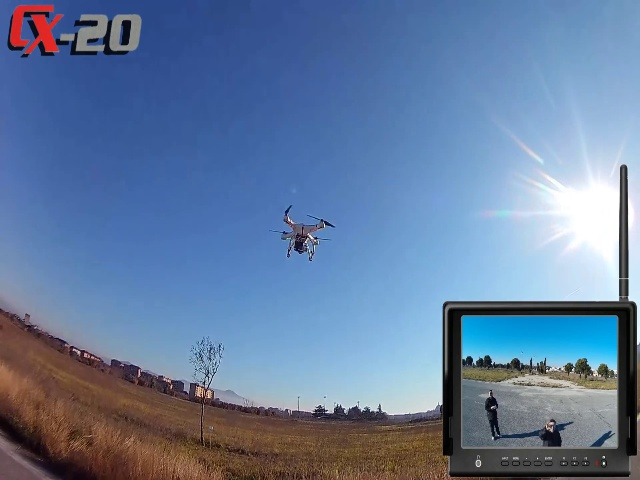drone: (271, 205, 331, 265)
